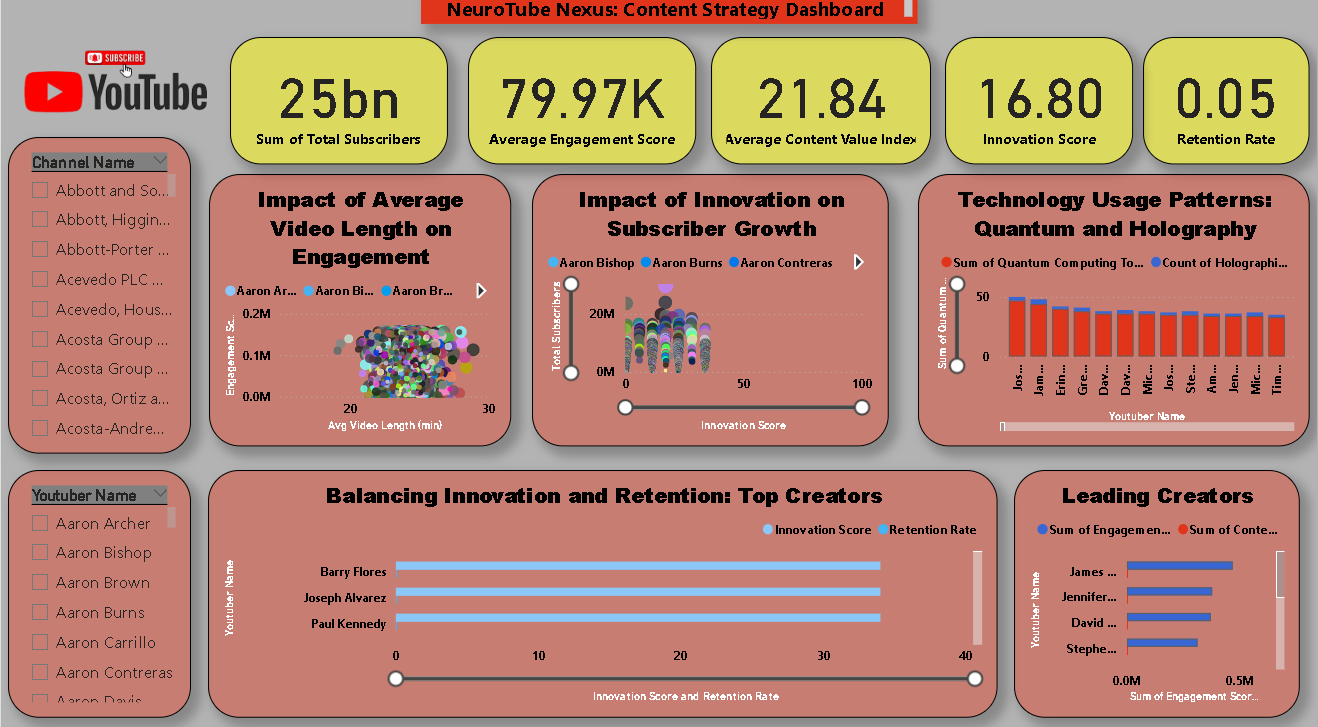

What the dashboard file says about the page in this screenshot:
{"tool":"powerbi","page":{"name":"dashboard","canvas":[1280,720],"ordinal":0},"visuals":[{"type":"card","fields":{"Values":["power bi neuro 3 assignment.Total Subscribers"]},"box":[222.7,45.7,212,123.5],"z":0},{"type":"card","fields":{"Values":["power bi neuro 3 assignment.Retention Rate"]},"box":[1110.8,45.7,162.4,123.5],"z":1000},{"type":"card","fields":{"Values":["power bi neuro 3 assignment.Innovation Score"]},"box":[918.2,45.7,182.9,123.5],"z":2000},{"type":"card","fields":{"Values":["power bi neuro 3 assignment.Average Content Value Index"]},"box":[690.6,45.7,214,123.5],"z":3000},{"type":"card","fields":{"Values":["power bi neuro 3 assignment.Average Engagement Score"]},"box":[454.2,45.7,221.8,123.5],"z":4000},{"type":"clusteredBarChart","title":"Leading Creators","fields":{"Category":["power bi neuro 3 assignment.Youtuber Name"],"Y":["power bi neuro 3 assignment.Engagement Score","power bi neuro 3 assignment.Content Value Index"]},"box":[985.3,466.9,278.2,241.2],"z":5000},{"type":"scatterChart","title":"Impact of Innovation on Subscriber Growth","fields":{"X":["power bi neuro 3 assignment.Innovation Score"],"Y":["power bi neuro 3 assignment.Total Subscribers"],"Size":["power bi neuro 3 assignment.Engagement Score"],"Series":["power bi neuro 3 assignment.Youtuber Name"]},"box":[516.5,179,347.2,264.6],"z":6000},{"type":"scatterChart","title":"Impact of Average Video Length on Engagement","fields":{"X":["power bi neuro 3 assignment.Avg Video Length (min)"],"Y":["power bi neuro 3 assignment.Engagement Score"],"Size":["power bi neuro 3 assignment.Content Value Index"],"Series":["power bi neuro 3 assignment.Youtuber Name"]},"box":[202.3,179,293.7,264.6],"z":7000},{"type":"columnChart","title":"Technology Usage Patterns: Quantum and Holography","fields":{"Category":["power bi neuro 3 assignment.Youtuber Name"],"Y":["power bi neuro 3 assignment.Quantum Computing Topics","power bi neuro 3 assignment.Holographic Content Rating"]},"box":[891.9,179,381.3,264.6],"z":8000},{"type":"clusteredBarChart","title":"Balancing Innovation and Retention: Top Creators","fields":{"Category":["power bi neuro 3 assignment.Youtuber Name"],"Y":["power bi neuro 3 assignment.Innovation Score","power bi neuro 3 assignment.Retention Rate"]},"box":[201.3,466.9,768.4,241.2],"z":9000},{"type":"slicer","fields":{"Values":["power bi neuro 3 assignment.Channel Name"]},"box":[6.8,143,178,308.3],"z":10000},{"type":"slicer","fields":{"Values":["power bi neuro 3 assignment.Youtuber Name"]},"box":[6.8,466.9,178,241.2],"z":11000},{"type":"image","box":[33.1,32.1,156.6,75.9],"z":11001},{"type":"image","box":[0,37.9,222.7,121.6],"z":11002},{"type":"textbox","box":[408.5,0,483.4,33.1],"z":11003}]}

Visuals, with their boxes in screenshot pixels (x1, y1, x2, y2), scaled from the page's 1280x720 canvas onto the 1318x727 screenshot:
card - power bi neuro 3 assignment.Total Subscribers: x1=229, y1=46, x2=448, y2=171
card - power bi neuro 3 assignment.Retention Rate: x1=1144, y1=46, x2=1311, y2=171
card - power bi neuro 3 assignment.Innovation Score: x1=945, y1=46, x2=1134, y2=171
card - power bi neuro 3 assignment.Average Content Value Index: x1=711, y1=46, x2=931, y2=171
card - power bi neuro 3 assignment.Average Engagement Score: x1=468, y1=46, x2=696, y2=171
"Leading Creators" clusteredBarChart: x1=1015, y1=471, x2=1301, y2=715
"Impact of Innovation on Subscriber Growth" scatterChart: x1=532, y1=181, x2=889, y2=448
"Impact of Average Video Length on Engagement" scatterChart: x1=208, y1=181, x2=511, y2=448
"Technology Usage Patterns: Quantum and Holography" columnChart: x1=918, y1=181, x2=1311, y2=448
"Balancing Innovation and Retention: Top Creators" clusteredBarChart: x1=207, y1=471, x2=998, y2=715
slicer - power bi neuro 3 assignment.Channel Name: x1=7, y1=144, x2=190, y2=456
slicer - power bi neuro 3 assignment.Youtuber Name: x1=7, y1=471, x2=190, y2=715
image: x1=34, y1=32, x2=195, y2=109
image: x1=0, y1=38, x2=229, y2=161
textbox: x1=421, y1=0, x2=918, y2=33
